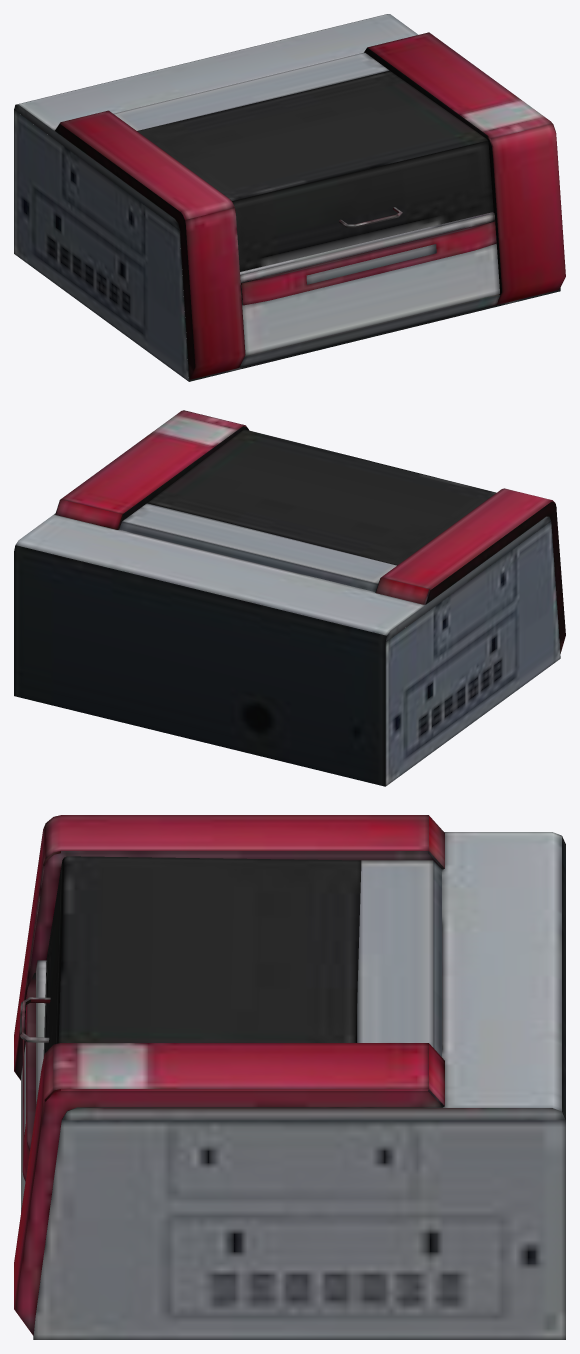
3 views of the same model, one above another, from view 1: azimuth 30°, elevation 25°; view 2: azimuth 150°, elevation 25°; view 3: azimuth 270°, elevation 25° (orthographic). The views are drawn at different scales.
Parts seen in each view (by area): view 1: QieGeJi_1001_simple_0; view 2: QieGeJi_1001_simple_0; view 3: QieGeJi_1001_simple_0.
Boxes of the visible parts, x1=… form: QieGeJi_1001_simple_0: x1=14, y1=14, x2=565, y2=381; QieGeJi_1001_simple_0: x1=14, y1=410, x2=565, y2=786; QieGeJi_1001_simple_0: x1=14, y1=815, x2=565, y2=1339.
Size of the model in its own units: 0.9327 by 0.3937 by 0.7883.
Materials: 1 (1 with a texture image).
